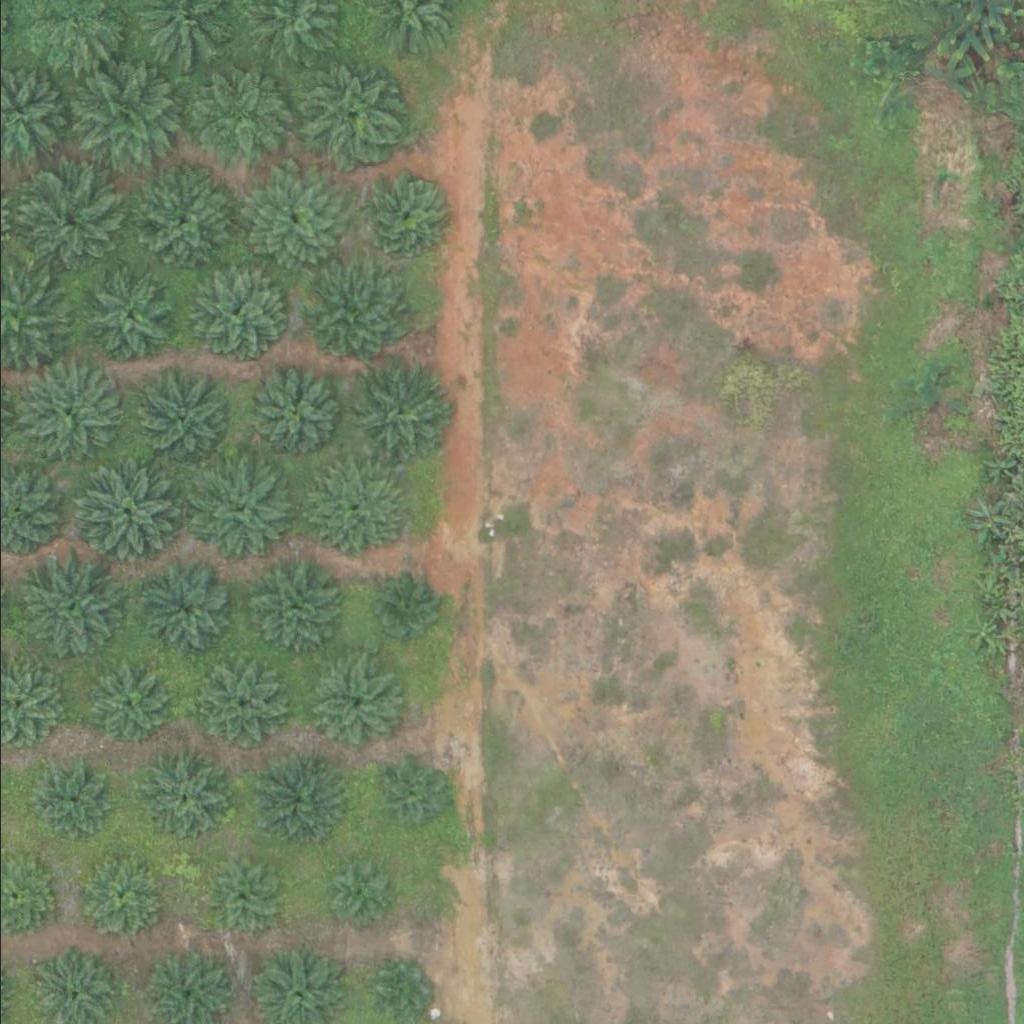Kelapa_Sawit: (235, 164, 349, 277), (123, 168, 237, 281), (13, 552, 126, 665), (9, 355, 123, 467), (66, 66, 179, 178), (9, 168, 122, 280), (339, 359, 452, 471), (69, 459, 182, 571), (296, 267, 397, 367), (237, 368, 338, 468), (131, 370, 232, 470), (299, 461, 400, 561), (193, 463, 294, 563), (241, 557, 342, 657), (133, 560, 234, 660), (303, 654, 404, 754), (297, 63, 397, 163), (187, 76, 287, 176), (188, 267, 288, 367), (77, 270, 177, 370), (191, 662, 280, 750), (249, 756, 337, 844), (136, 753, 224, 841), (70, 855, 158, 943), (361, 171, 449, 258), (78, 659, 166, 746), (199, 858, 274, 933), (31, 762, 106, 837), (378, 763, 441, 826), (331, 860, 394, 923), (376, 580, 439, 643), (371, 956, 433, 1018)
